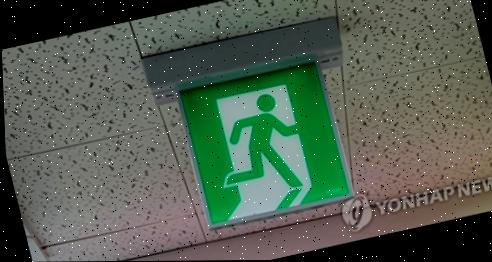emergency_exit: (175, 53, 355, 230)
